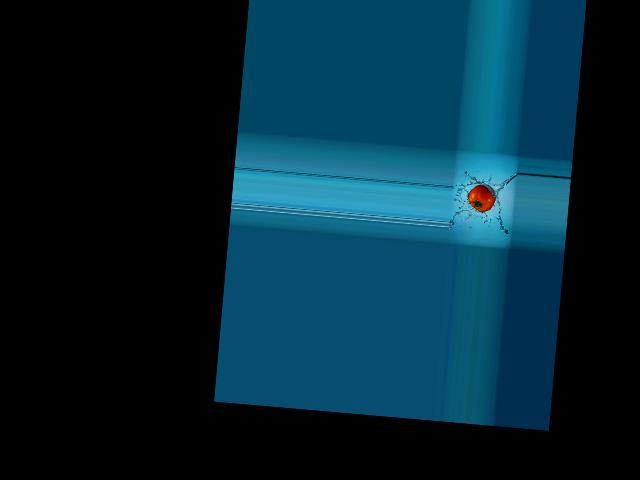tomato: (466, 183, 496, 212)
